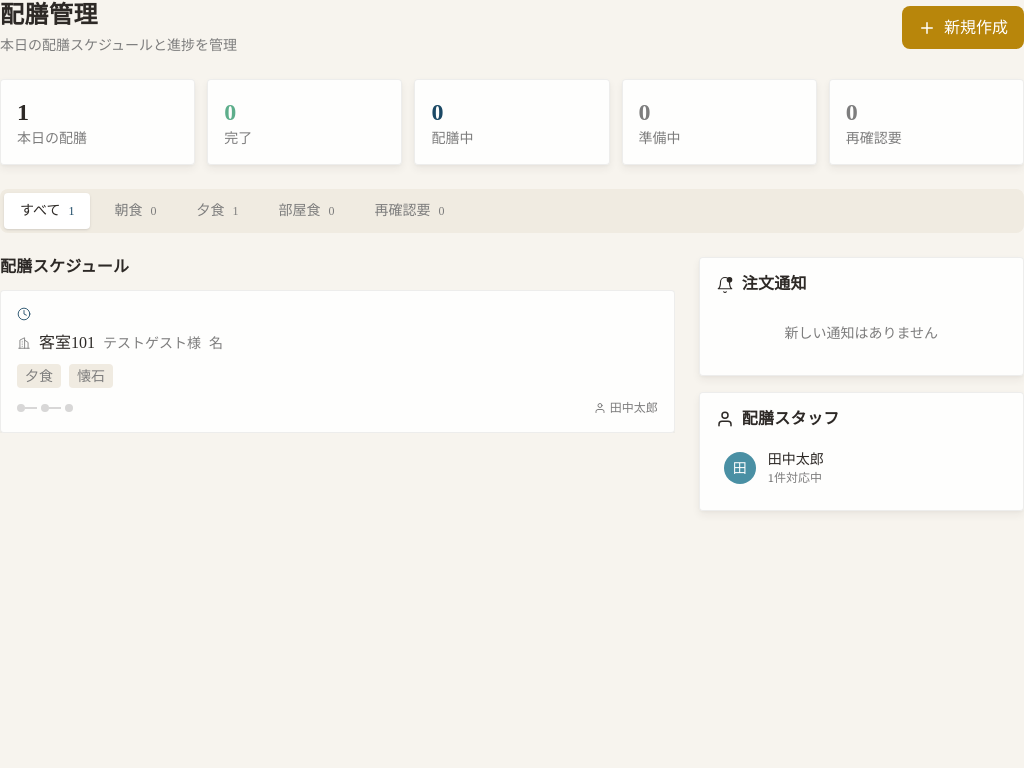
CreateMealModalの共通Modal移行 › CreateMealModalが共通Modalのrole=dialogを持つ
Step 1. Click the button "新規作成" → [963, 28], box [902,6,1023,49]
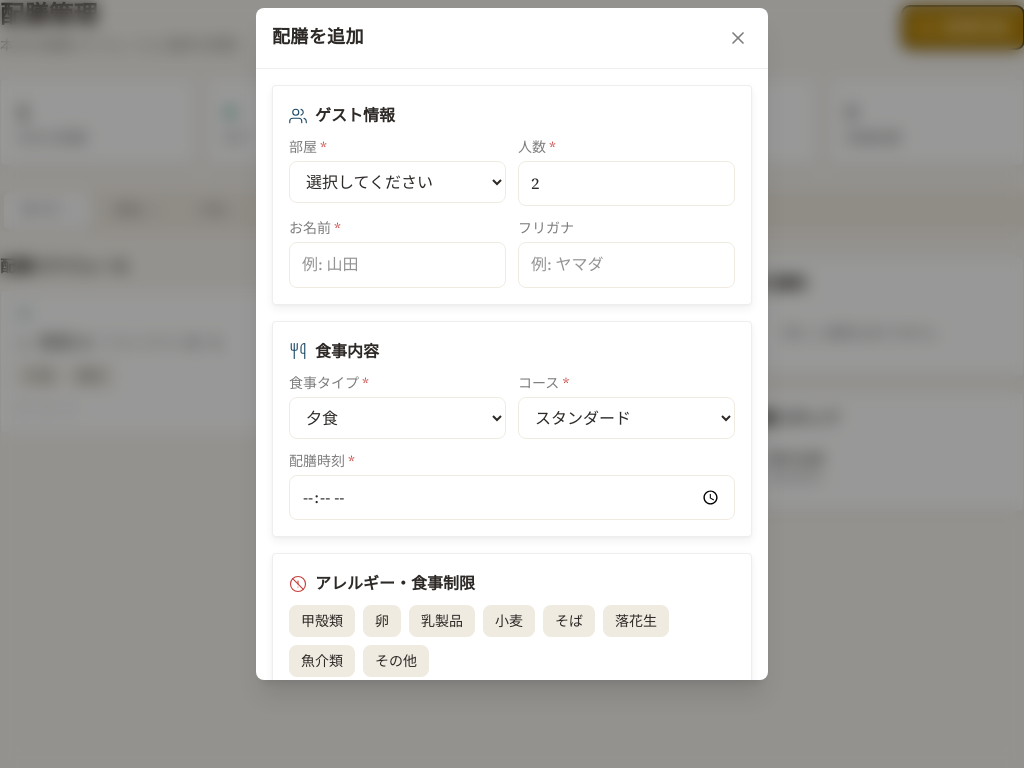
expect the dialog is shown: met, box [256,8,768,680]
expect the heading "配膳を追加" is shown: met, box [272,26,364,50]
